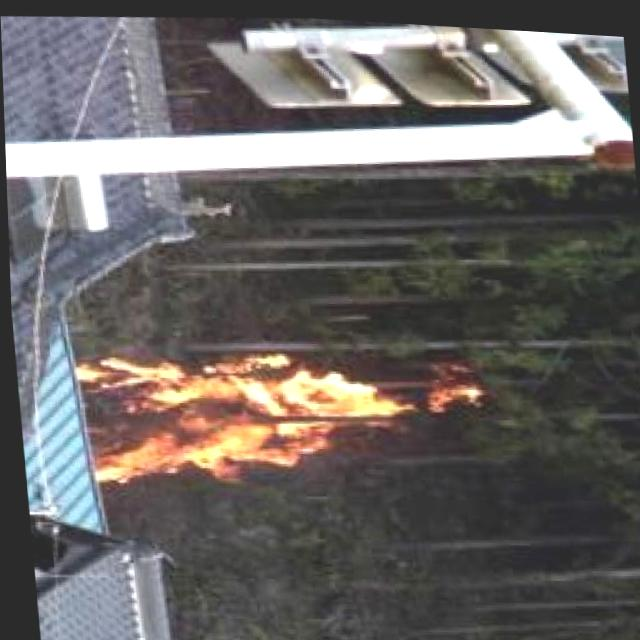helmet: (68, 308, 487, 505)
